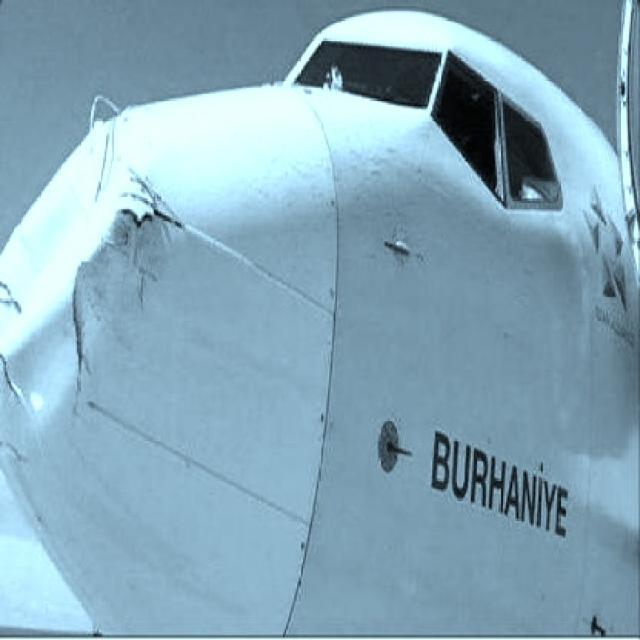dent: (3, 104, 143, 323)
